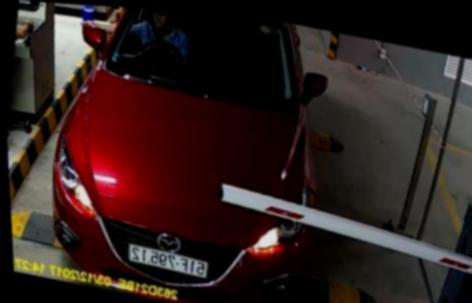License_Plate: (118, 243, 214, 281)
